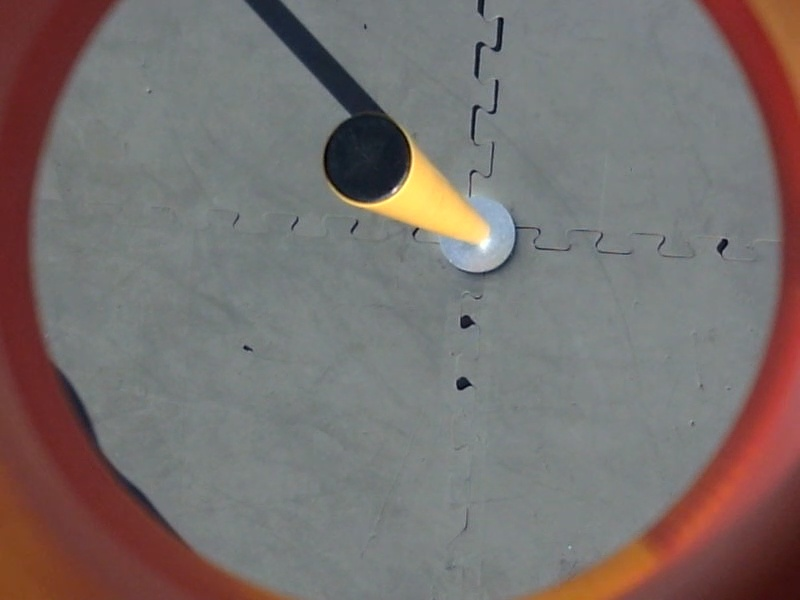tip: (320, 106, 426, 211)
